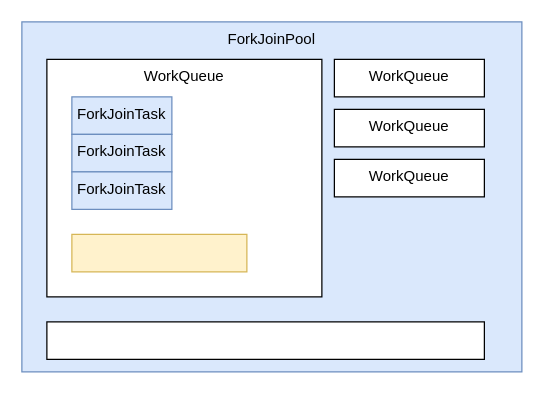
Image size: 544x394. Some labels were removed from this diagram. Each missing label, with the centre of its shape:
ForkJoinWorkerThread: pixel 159 252
ForkJoinWorkerThreadFactory: pixel 265 340
